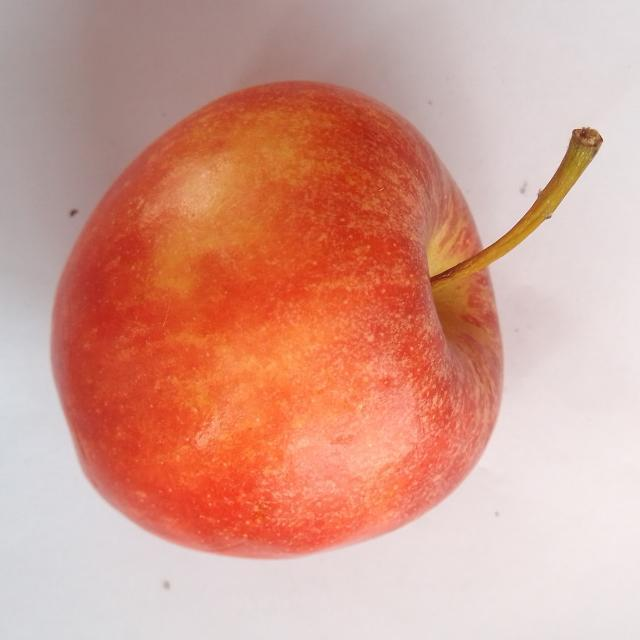Fresh Apple: (43, 75, 510, 565)
